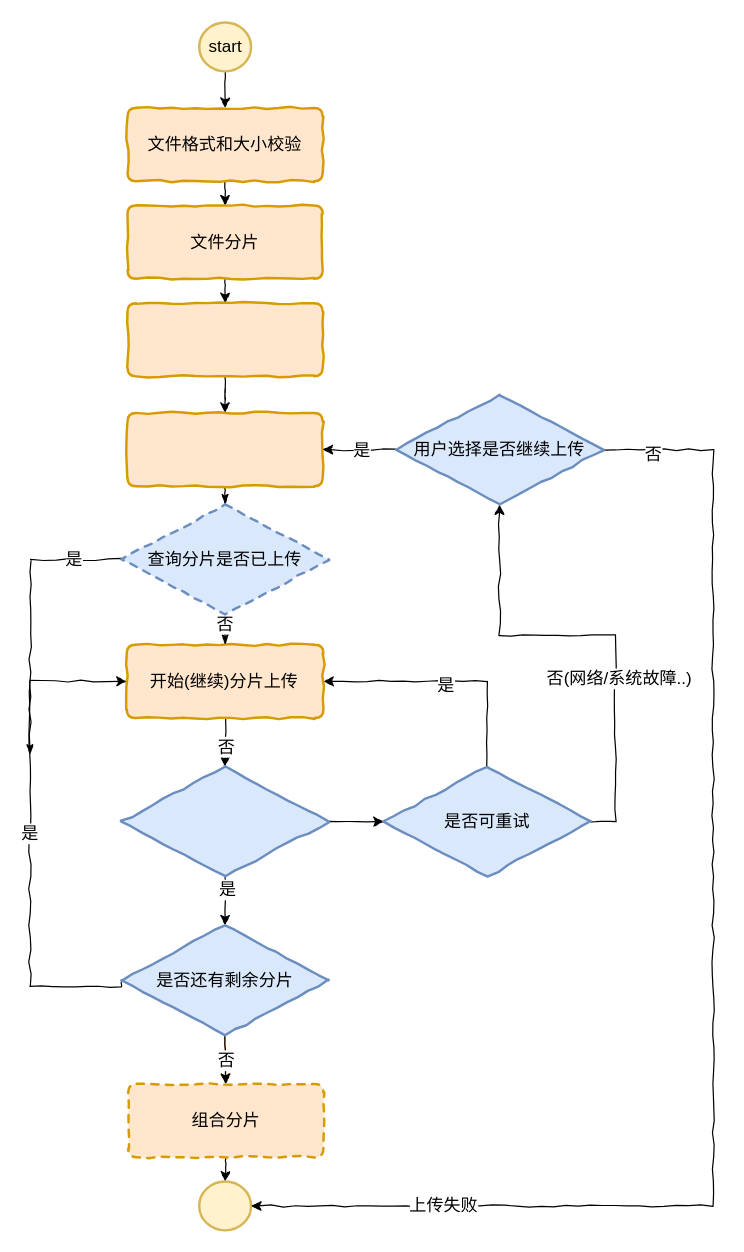
This 744x1252 diagram has some shape labels left out. The box of each missing label's shape, as (x1, y1, x2, y2) in pixels:
end: (197, 1180, 252, 1231)
分片上传成功: (120, 765, 329, 877)
加入上传任务队列: (126, 301, 323, 377)
开始文件上传: (126, 411, 323, 487)
